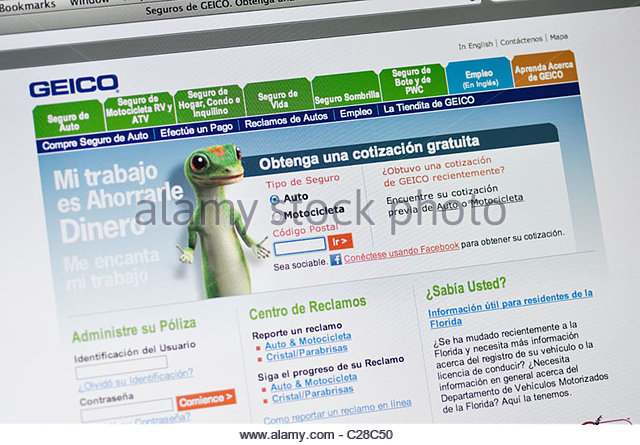geico: (23, 75, 133, 99)
